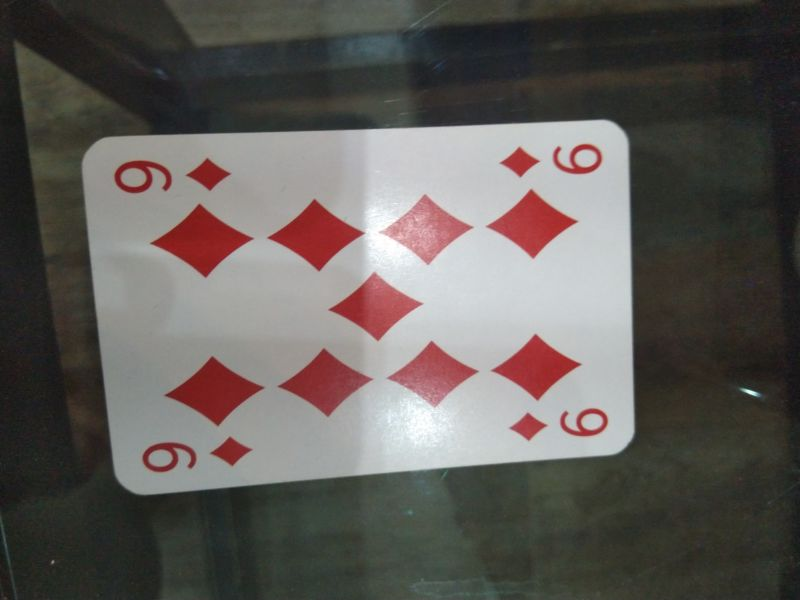9d: (106, 147, 239, 200), (138, 432, 254, 477), (497, 136, 604, 183), (501, 403, 617, 442)
